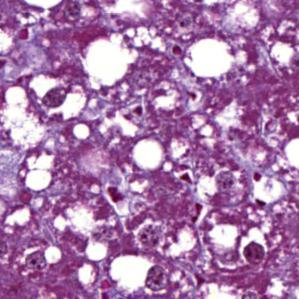steatosis: (84, 38, 134, 88), (131, 135, 167, 173)
